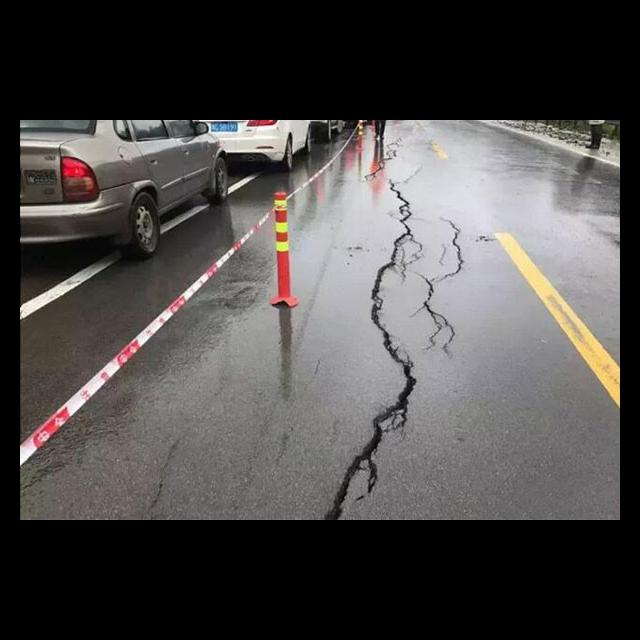retak_memanjang: (339, 178, 416, 520), (406, 207, 479, 367), (364, 131, 410, 186)
